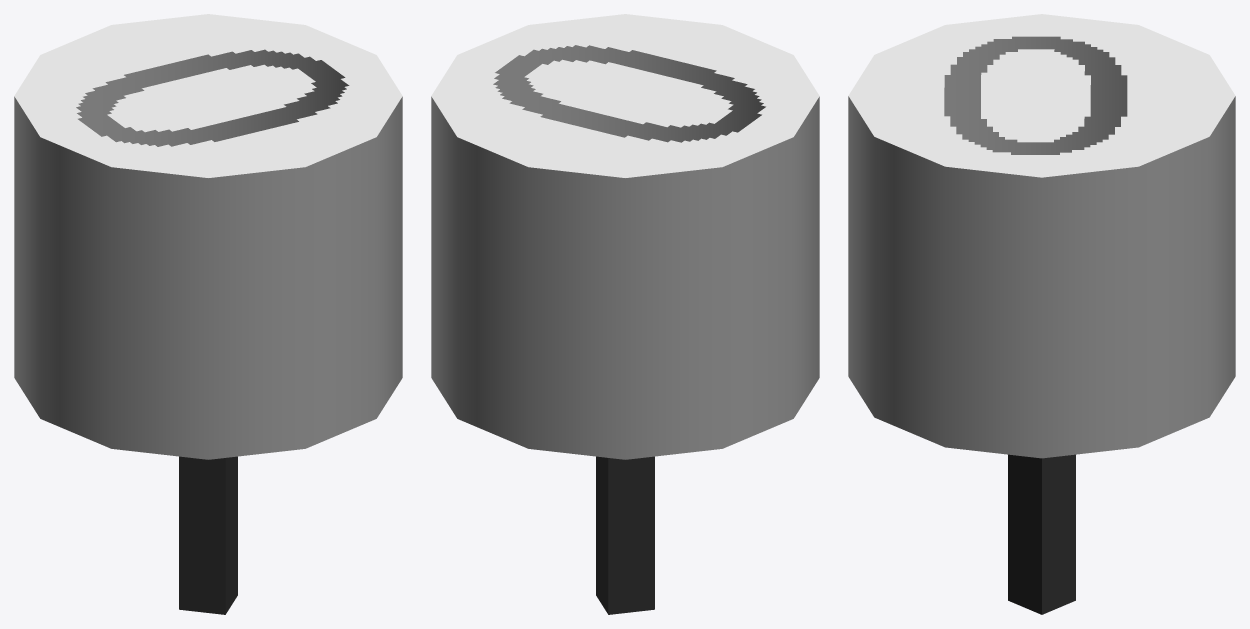
Rendered from button_01.obj.
3 views of the same model, side by side, from view 1: azimuth 30°, elevation 25°; view 2: azimuth 150°, elevation 25°; view 3: azimuth 270°, elevation 25° (orthographic).
Visible parts, largest first — view 1: digit_button_01_Cylinder; view 2: digit_button_01_Cylinder; view 3: digit_button_01_Cylinder.
Boxes of the visible parts, box(x1,y1,x2,y2) form: digit_button_01_Cylinder: box(14, 14, 402, 614); digit_button_01_Cylinder: box(431, 14, 819, 614); digit_button_01_Cylinder: box(848, 14, 1235, 614).
Size of the model in its own units: 0.0128 by 0.0184 by 0.0128.
